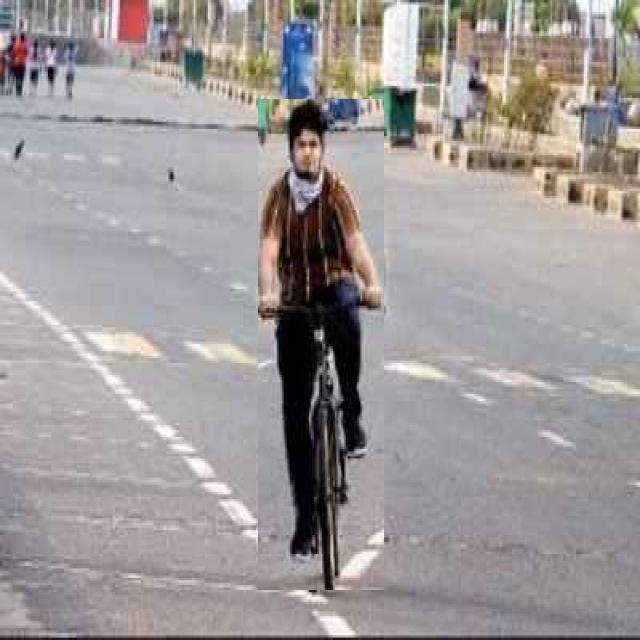bicycle: (258, 99, 384, 590)
